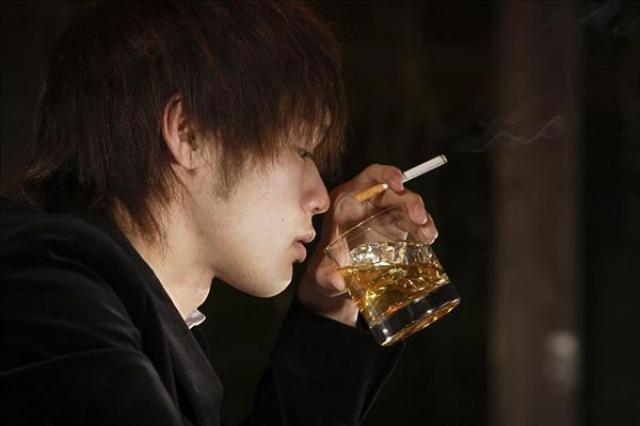Smoking: (356, 154, 448, 208)
